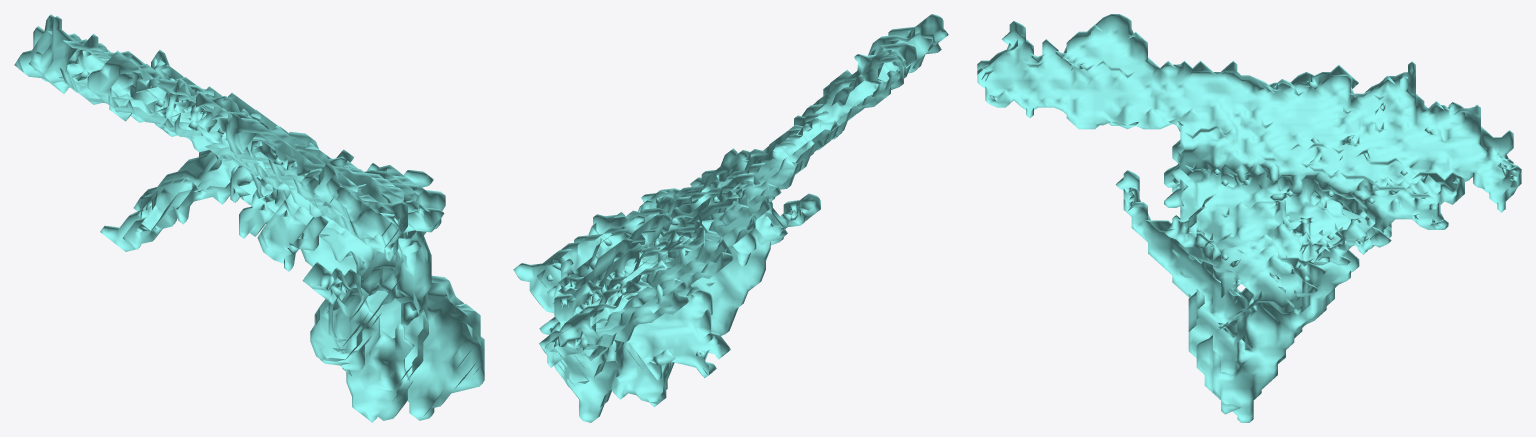
Rendered from osteocyte_26.glb.
The picture shows the model from 3 angles, left to right: view 1: azimuth 30°, elevation 25°; view 2: azimuth 150°, elevation 25°; view 3: azimuth 270°, elevation 25°; orthographic projection. The views are drawn at different scales.
Visible parts, largest first — view 1: osteocyte_26; view 2: osteocyte_26; view 3: osteocyte_26.
Part boxes in pixels (x1,y1,x2,y2): osteocyte_26: [14, 14, 484, 422]; osteocyte_26: [513, 14, 948, 422]; osteocyte_26: [977, 14, 1521, 422].
Bounding box in the file's own units: 16.37 × 20.22 × 32.26.
